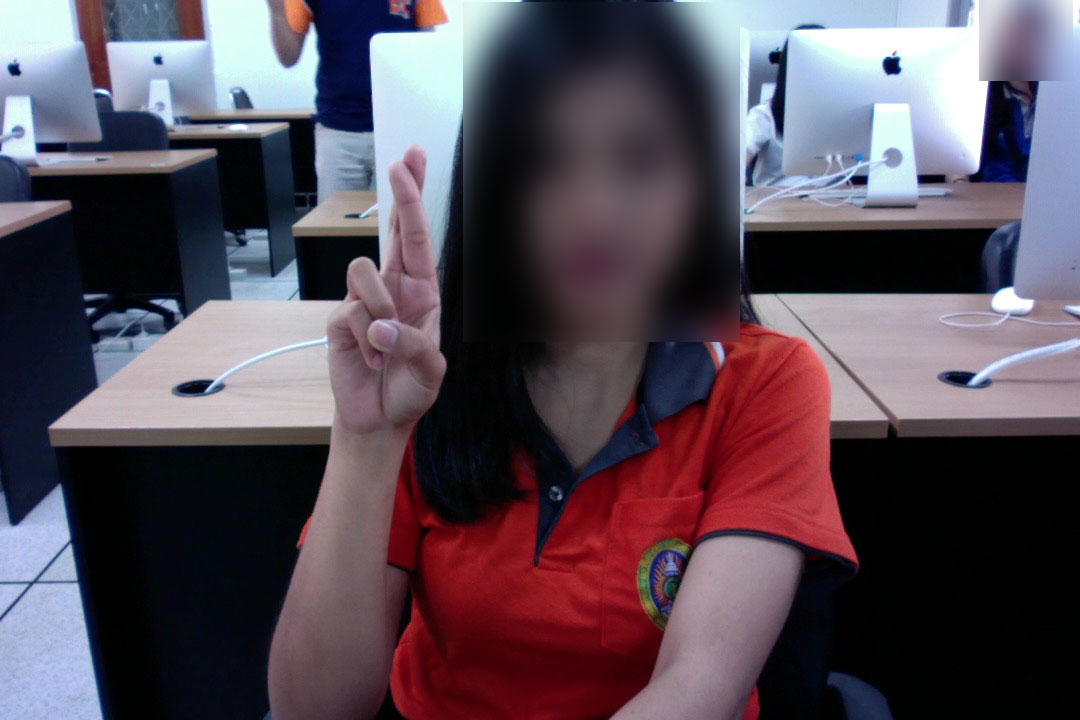rao: (303, 135, 469, 440)
